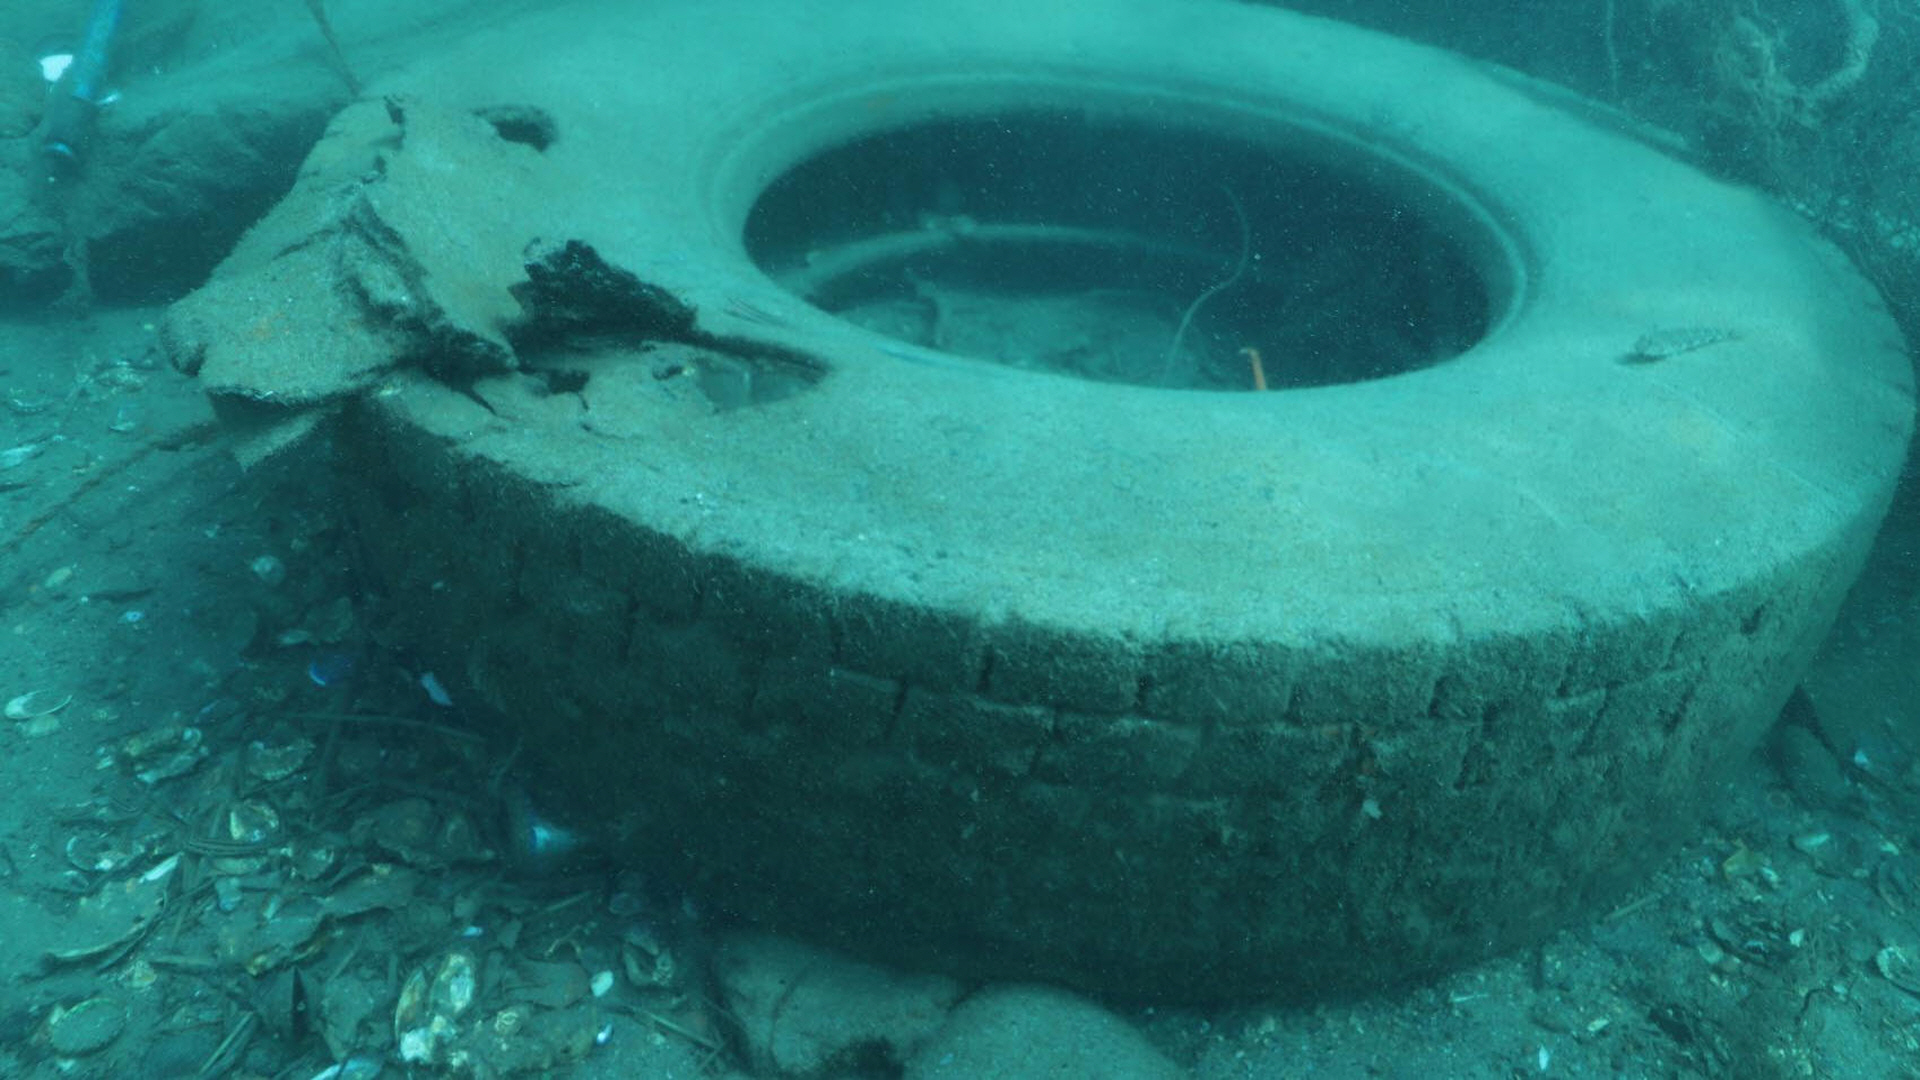tire: (297, 0, 1920, 992)
